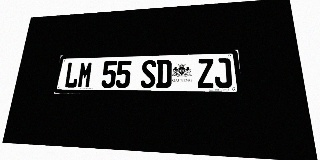5: (115, 60, 131, 88), (101, 61, 117, 88)
D: (156, 59, 172, 88)
J: (214, 58, 232, 88)
L: (64, 62, 80, 88)
M: (77, 61, 93, 88)
S: (140, 60, 156, 88)
Z: (197, 58, 214, 88)
